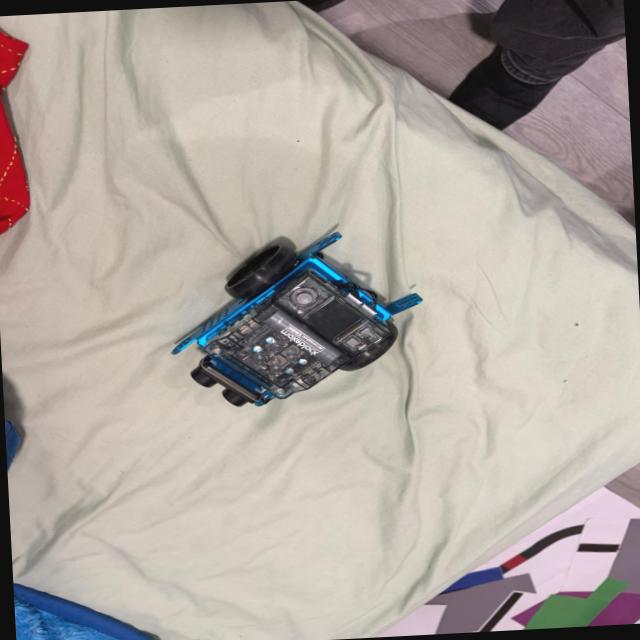mbot-detection: (160, 220, 434, 416)
